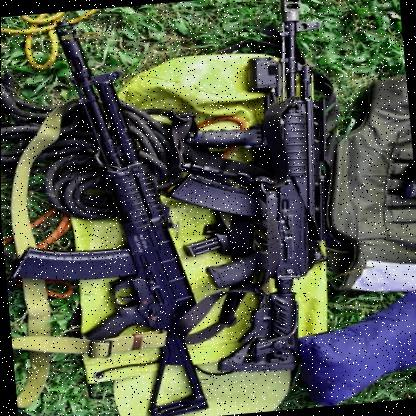rifle: (0, 5, 181, 416), (177, 0, 372, 377)
